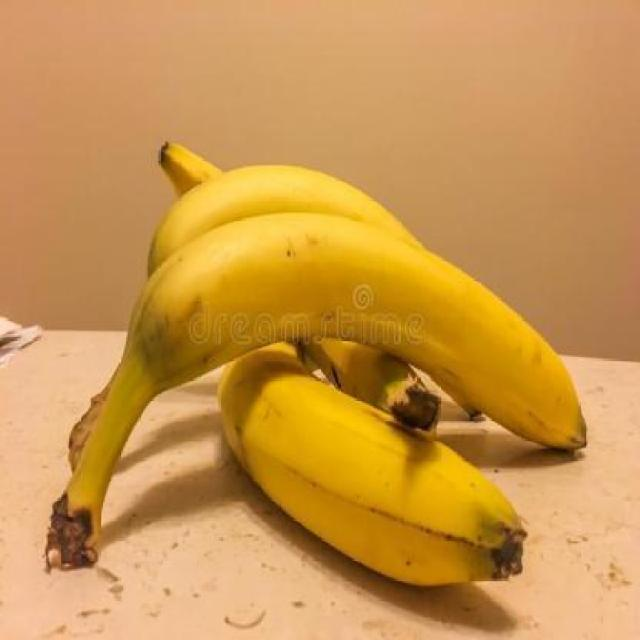banana: (43, 143, 588, 589)
